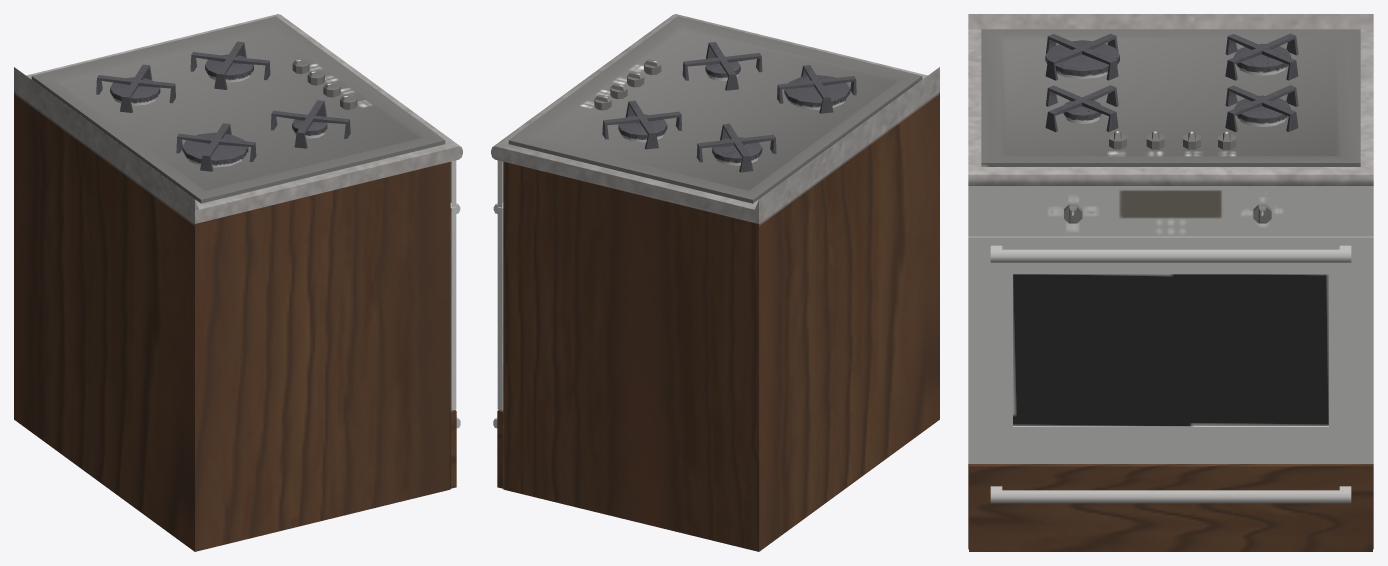
File: CabinetWithStoveAndOven.glb
3 views of the same model, side by side, from view 1: azimuth 30°, elevation 25°; view 2: azimuth 150°, elevation 25°; view 3: azimuth 270°, elevation 25° (orthographic). The views are drawn at different scales.
Visible parts, largest first — view 1: KitchenCabinetWithStoveAndOven; view 2: KitchenCabinetWithStoveAndOven; view 3: KitchenCabinetWithStoveAndOven.
Boxes of the visible parts, x1,y1,x2,y2 form: KitchenCabinetWithStoveAndOven: [14, 14, 462, 551]; KitchenCabinetWithStoveAndOven: [491, 14, 939, 551]; KitchenCabinetWithStoveAndOven: [968, 14, 1373, 551].
Bounding box in the file's own units: 0.7043 × 0.8728 × 0.8.
1 material, 1 textured.
